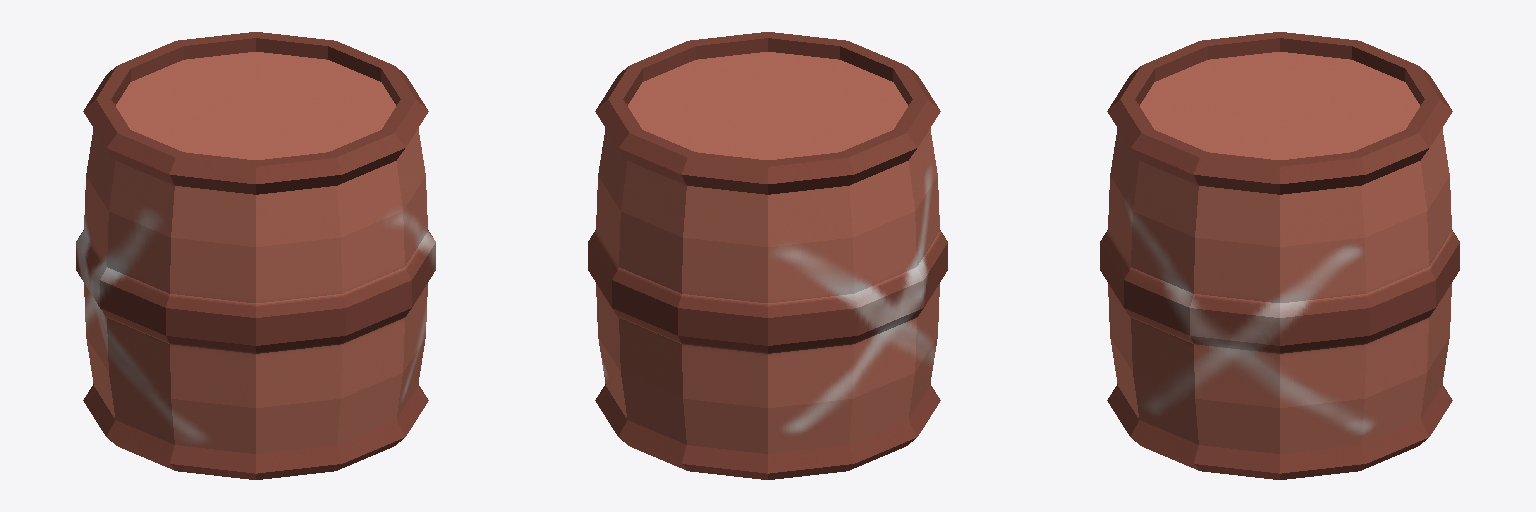
3 renders of one model, left to right at view 1: azimuth 30°, elevation 25°; view 2: azimuth 150°, elevation 25°; view 3: azimuth 270°, elevation 25°, orthographic.
Visible parts, largest first — view 1: barril; view 2: barril; view 3: barril.
Part boxes in pixels (left/top/right/bottom): barril: left=76, top=32, right=435, bottom=479; barril: left=588, top=32, right=947, bottom=479; barril: left=1100, top=32, right=1459, bottom=479.
Size of the model in its own units: 2.08 by 2 by 2.08.
Materials: 1 (1 with a texture image).